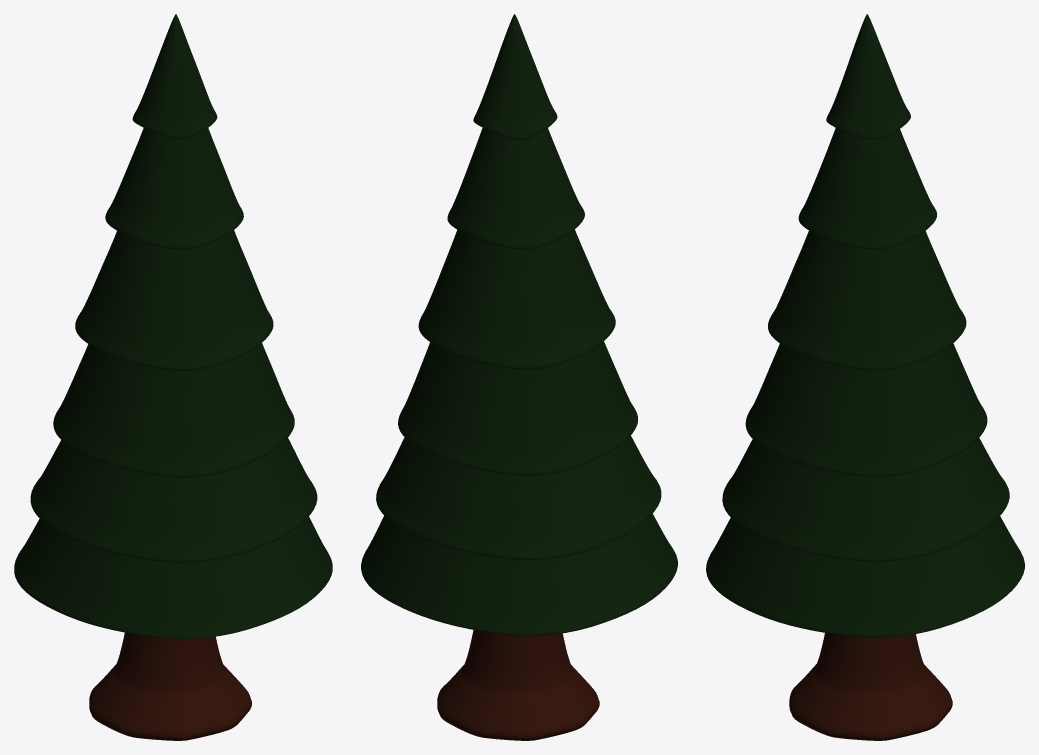
Rendered from PineTree.FBX.
3 views of the same model, side by side, from view 1: azimuth 30°, elevation 25°; view 2: azimuth 150°, elevation 25°; view 3: azimuth 270°, elevation 25° (orthographic).
Parts seen in each view (by area): view 1: Cylinder; view 2: Cylinder; view 3: Cylinder.
Part boxes in pixels (x1,y1,x2,y2): Cylinder: [14, 14, 332, 740]; Cylinder: [361, 14, 677, 740]; Cylinder: [706, 14, 1024, 740].
Size of the model in its own units: 2.26 by 5.51 by 2.26.
